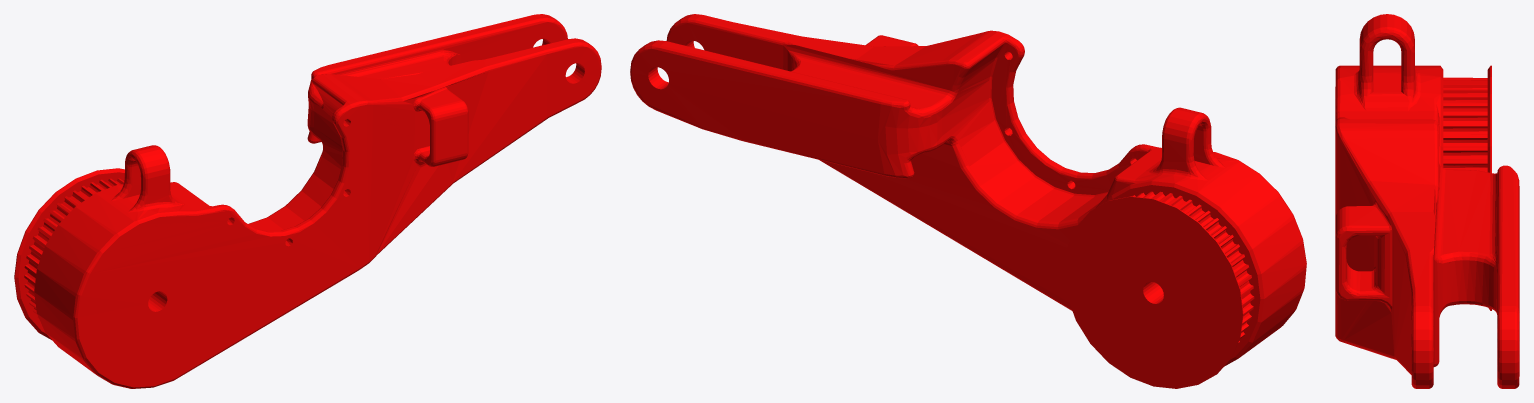
The model's file is legs_1_left_leg_1_51t_hdt5_15mm_belt_knee_left_1.glb.
3 views of the same model, side by side, from view 1: azimuth 30°, elevation 25°; view 2: azimuth 150°, elevation 25°; view 3: azimuth 270°, elevation 25° (orthographic). The views are drawn at different scales.
Visible parts, largest first — view 1: legs_1_left_leg_1_51t_hdt5_15mm_belt_knee_left_1.obj; view 2: legs_1_left_leg_1_51t_hdt5_15mm_belt_knee_left_1.obj; view 3: legs_1_left_leg_1_51t_hdt5_15mm_belt_knee_left_1.obj.
Boxes of the visible parts, left/top/right/bottom form: legs_1_left_leg_1_51t_hdt5_15mm_belt_knee_left_1.obj: left=14, top=14, right=601, bottom=388; legs_1_left_leg_1_51t_hdt5_15mm_belt_knee_left_1.obj: left=630, top=14, right=1306, bottom=388; legs_1_left_leg_1_51t_hdt5_15mm_belt_knee_left_1.obj: left=1335, top=14, right=1519, bottom=388.
Bounding box in the file's own units: 0.2995 × 0.1211 × 0.0665.
